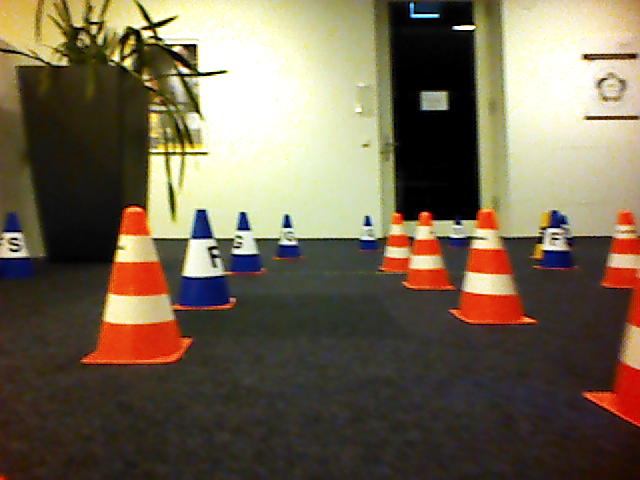bluecone: (173, 209, 231, 311), (227, 211, 268, 276)
orangeconesmall: (80, 203, 187, 367), (404, 210, 451, 292)
